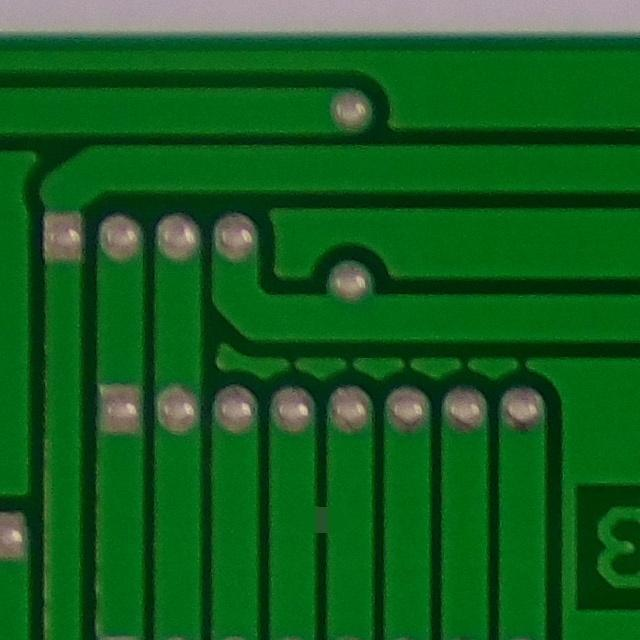short: (284, 473, 368, 561)
